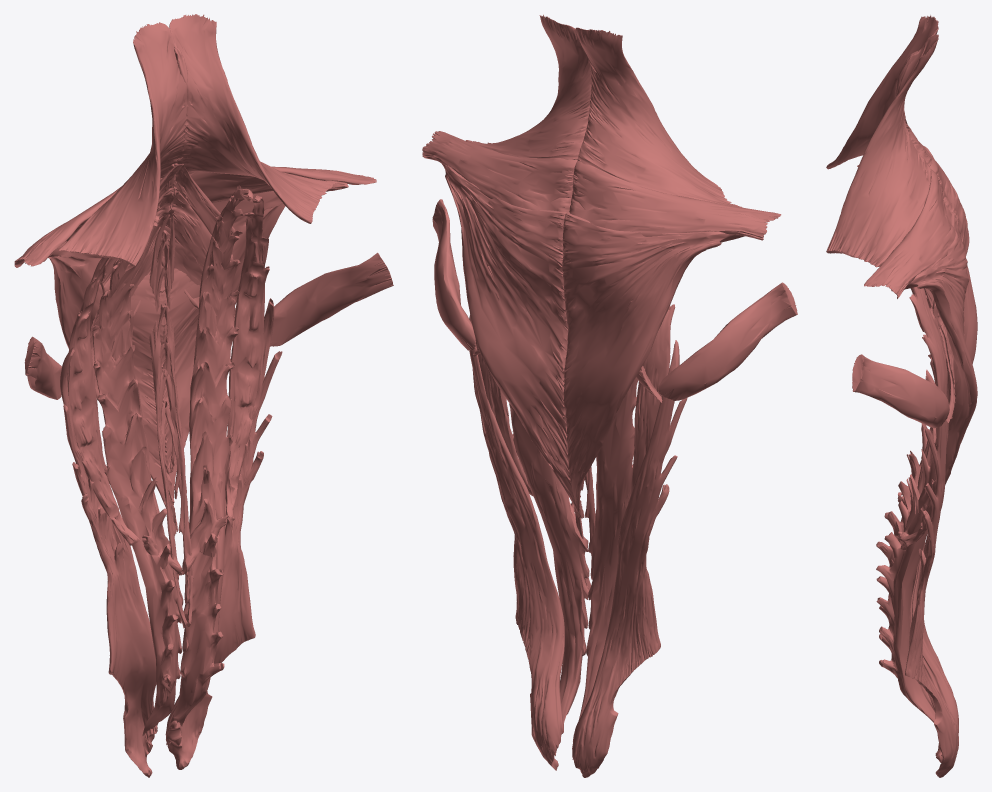
Rendered from muscular-torso-posterior.glb.
3 renders of one model, left to right at view 1: azimuth 30°, elevation 25°; view 2: azimuth 150°, elevation 25°; view 3: azimuth 270°, elevation 25°, orthographic. The views are drawn at different scales.
Visible parts, largest first — view 1: bp3d_FMA22753_FJ1535M, bp3d_FMA22751_FJ1535, bp3d_FMA33586_FJ1521, bp3d_FMA33587_FJ1521M, bp3d_FMA22740_FJ1527, bp3d_FMA22741_FJ1527M, bp3d_FMA22743_FJ1528M, bp3d_FMA33581_FJ1520, bp3d_FMA33583_FJ1520M, bp3d_FMA22742_FJ1528, bp3d_FMA32552_FJ1507M, bp3d_FMA22780_FJ1544M (+7 smaller); view 2: bp3d_FMA33583_FJ1520M, bp3d_FMA33581_FJ1520, bp3d_FMA22740_FJ1527, bp3d_FMA22741_FJ1527M, bp3d_FMA33586_FJ1521, bp3d_FMA33584_FJ1554, bp3d_FMA22753_FJ1535M, bp3d_FMA22751_FJ1535, bp3d_FMA33585_FJ1554M, bp3d_FMA33587_FJ1521M, bp3d_FMA32551_FJ1507, bp3d_FMA32552_FJ1507M (+2 smaller); view 3: bp3d_FMA33587_FJ1521M, bp3d_FMA22753_FJ1535M, bp3d_FMA33583_FJ1520M, bp3d_FMA22741_FJ1527M, bp3d_FMA33585_FJ1554M, bp3d_FMA32552_FJ1507M, bp3d_FMA33586_FJ1521, bp3d_FMA22743_FJ1528M, bp3d_FMA22751_FJ1535, bp3d_FMA22740_FJ1527, bp3d_FMA33581_FJ1520, bp3d_FMA13382_FJ1536M (+1 smaller).
Part boxes in pixels (<box>): bp3d_FMA22753_FJ1535M: <box>168,185,253,743</box>; bp3d_FMA22751_FJ1535: <box>92,205,182,735</box>; bp3d_FMA33586_FJ1521: <box>58,22,188,266</box>; bp3d_FMA33587_FJ1521M: <box>169,14,337,223</box>; bp3d_FMA22740_FJ1527: <box>60,346,157,777</box>; bp3d_FMA22741_FJ1527M: <box>165,298,282,769</box>; bp3d_FMA22743_FJ1528M: <box>225,195,269,520</box>; bp3d_FMA33581_FJ1520: <box>48,241,177,531</box>; bp3d_FMA33583_FJ1520M: <box>161,180,348,531</box>; bp3d_FMA22742_FJ1528: <box>67,222,158,545</box>; bp3d_FMA32552_FJ1507M: <box>264,252,393,346</box>; bp3d_FMA22780_FJ1544M: <box>163,213,193,626</box>; bp3d_FMA33583_FJ1520M: <box>441,163,584,518</box>; bp3d_FMA33581_FJ1520: <box>562,211,744,517</box>; bp3d_FMA22740_FJ1527: <box>572,340,687,777</box>; bp3d_FMA22741_FJ1527M: <box>469,314,564,770</box>; bp3d_FMA33586_FJ1521: <box>575,27,742,207</box>; bp3d_FMA33584_FJ1554: <box>563,160,781,252</box>; bp3d_FMA22753_FJ1535M: <box>509,403,588,736</box>; bp3d_FMA22751_FJ1535: <box>578,377,637,720</box>; bp3d_FMA33585_FJ1554M: <box>422,131,577,252</box>; bp3d_FMA33587_FJ1521M: <box>465,14,591,159</box>; bp3d_FMA32551_FJ1507: <box>658,282,797,400</box>; bp3d_FMA32552_FJ1507M: <box>432,199,475,350</box>; bp3d_FMA33587_FJ1521M: <box>826,34,938,267</box>; bp3d_FMA22753_FJ1535M: <box>876,288,946,722</box>; bp3d_FMA33583_FJ1520M: <box>891,211,977,485</box>; bp3d_FMA22741_FJ1527M: <box>905,369,958,777</box>; bp3d_FMA33585_FJ1554M: <box>864,169,955,298</box>; bp3d_FMA32552_FJ1507M: <box>852,354,949,428</box>; bp3d_FMA33586_FJ1521: <box>826,15,938,169</box>; bp3d_FMA22743_FJ1528M: <box>900,287,948,546</box>; bp3d_FMA22751_FJ1535: <box>876,354,936,711</box>; bp3d_FMA22740_FJ1527: <box>910,542,958,762</box>; bp3d_FMA33581_FJ1520: <box>923,146,977,364</box>; bp3d_FMA13382_FJ1536M: <box>932,299,955,423</box>.
Size of the model in its own units: 0.3444 by 0.6762 by 0.1252.
